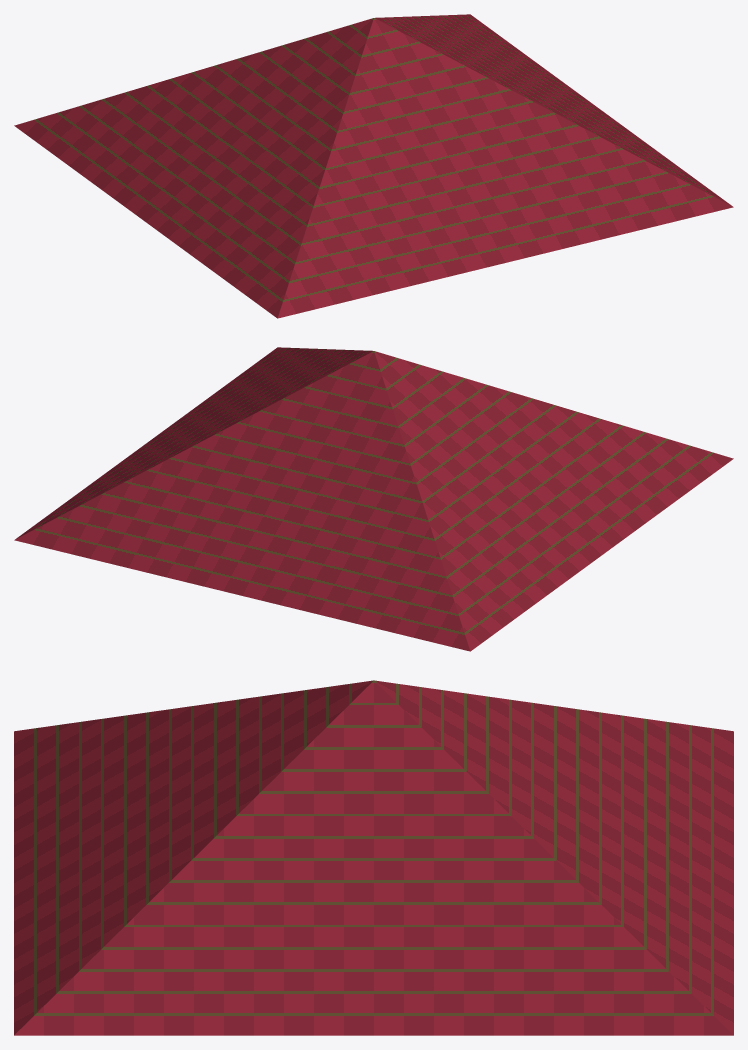
Rendered from roof.glb.
The picture shows the model from 3 angles, top to bottom: view 1: azimuth 30°, elevation 25°; view 2: azimuth 150°, elevation 25°; view 3: azimuth 270°, elevation 25°; orthographic projection. The views are drawn at different scales.
Parts seen in each view (by area): view 1: roof; view 2: roof; view 3: roof.
Part boxes in pixels (<box>): roof: <box>14,14,733,318</box>; roof: <box>14,347,733,651</box>; roof: <box>14,680,733,1035</box>.
Size of the model in its own units: 4.5 by 1.4 by 4.5.
1 material, 1 textured.
